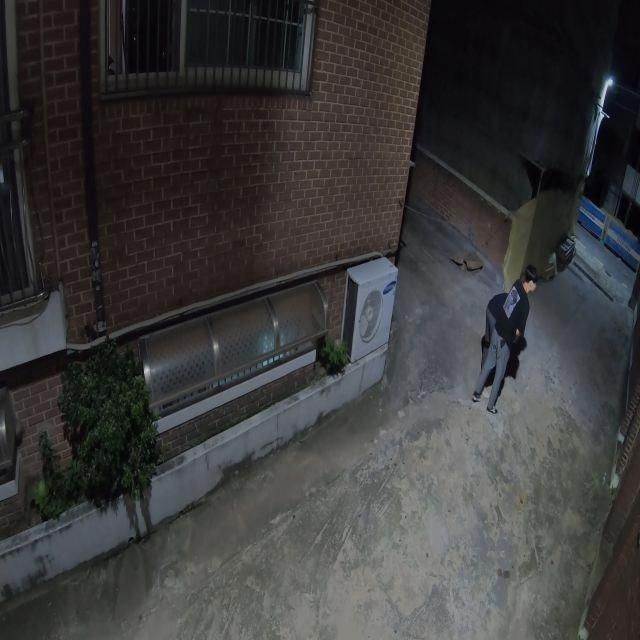fight: (472, 260, 534, 413)
